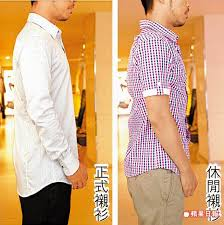C_shirt: (14, 12, 78, 198), (124, 19, 188, 180)
